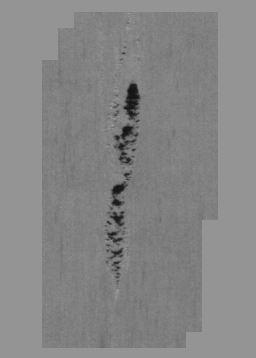oxl: (35, 10, 221, 348)
